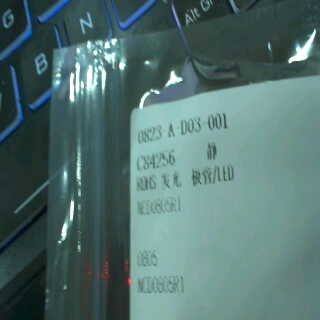LED: (159, 161, 242, 189)
